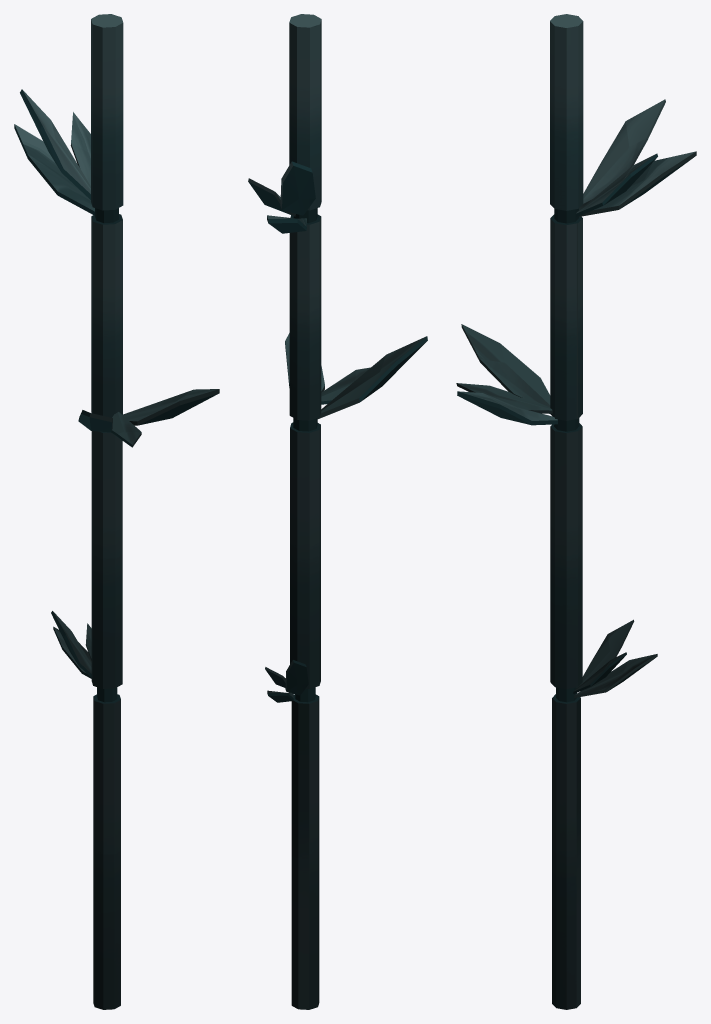
File: Bambu 2.obj
3 views of the same model, side by side, from view 1: azimuth 30°, elevation 25°; view 2: azimuth 150°, elevation 25°; view 3: azimuth 270°, elevation 25° (orthographic).
Parts seen in each view (by area): view 1: Bambu 2; view 2: Bambu 2; view 3: Bambu 2.
Boxes of the visible parts, x1,y1,x2,y2 form: Bambu 2: (14, 14, 219, 1009); Bambu 2: (248, 14, 427, 1009); Bambu 2: (456, 14, 696, 1009).
Bounding box in the file's own units: 0.3474 × 2.55 × 0.5659.
